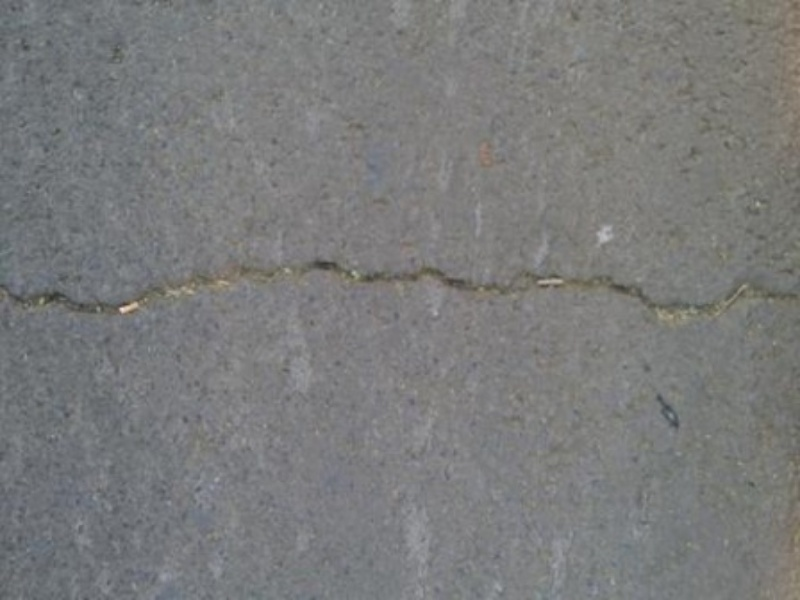crack: (14, 231, 794, 398)
